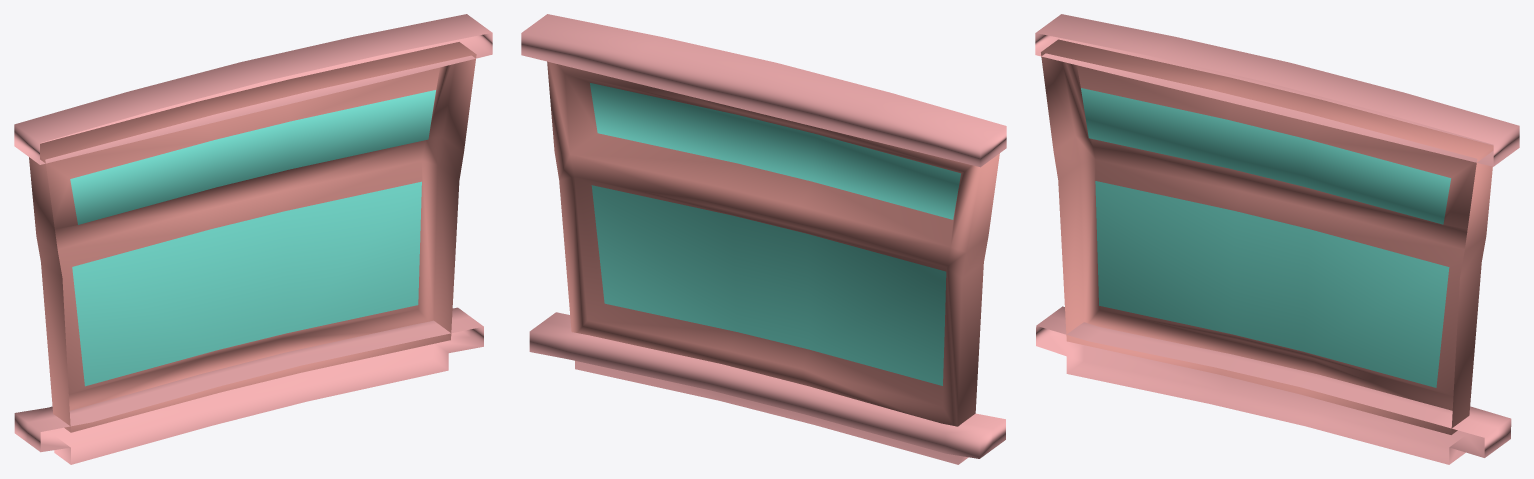
The model's file is Building_B_3.fbx.
The picture shows the model from 3 angles, left to right: view 1: azimuth 30°, elevation 25°; view 2: azimuth 150°, elevation 25°; view 3: azimuth 330°, elevation 25°; orthographic projection.
Visible parts, largest first — view 1: Building_B_3; view 2: Building_B_3; view 3: Building_B_3.
Part boxes in pixels (bbox=[...]): Building_B_3: bbox=[14, 14, 492, 464]; Building_B_3: bbox=[521, 14, 1006, 464]; Building_B_3: bbox=[1035, 14, 1519, 464].
Size of the model in its own units: 222 by 157 by 22.14.
